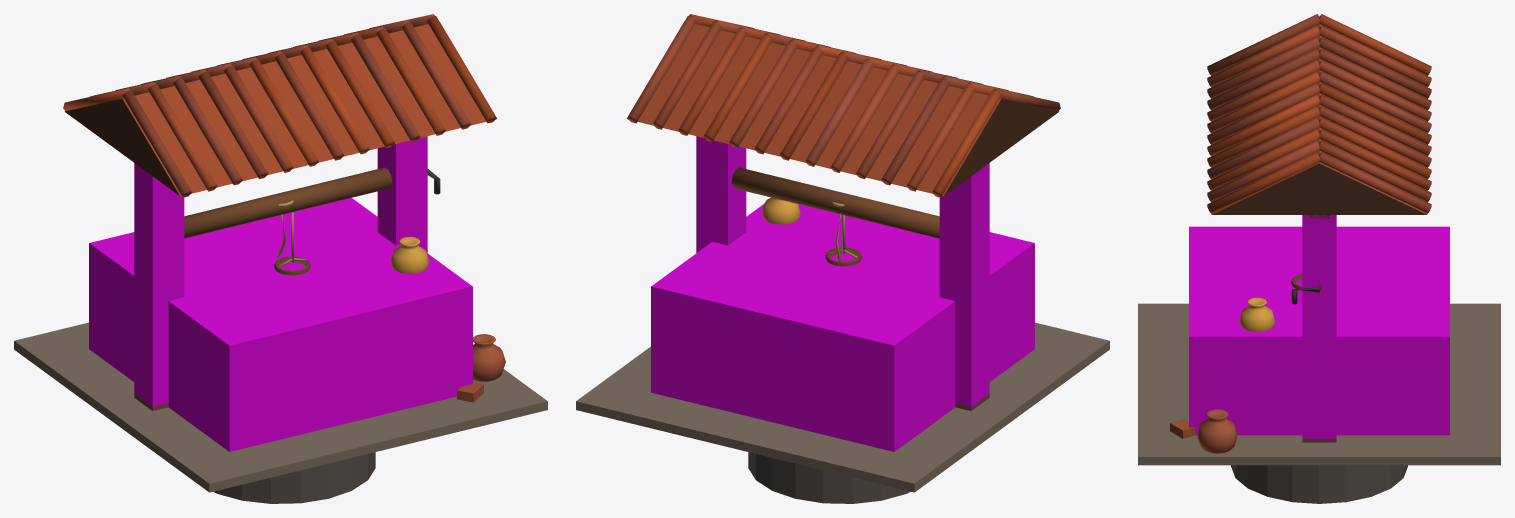
The model's file is PRP_Well_A.glb.
3 views of the same model, side by side, from view 1: azimuth 30°, elevation 25°; view 2: azimuth 150°, elevation 25°; view 3: azimuth 270°, elevation 25° (orthographic). The views are drawn at different scales.
Parts seen in each view (by area): view 1: PRP_Well_A_Mesh, COL_Drum, COL_Post_-1, COL_Post_1, STATE_dry, STATE_working; view 2: PRP_Well_A_Mesh, COL_Drum, COL_Post_-1, COL_Post_1, STATE_working; view 3: PRP_Well_A_Mesh, COL_Drum, COL_Post_1, STATE_dry, STATE_working.
Part boxes in pixels (bbox=[...]): PRP_Well_A_Mesh: bbox=[14, 14, 547, 503]; COL_Drum: bbox=[89, 198, 472, 451]; COL_Post_-1: bbox=[134, 163, 184, 410]; COL_Post_1: bbox=[377, 136, 427, 252]; STATE_dry: bbox=[276, 214, 505, 402]; STATE_working: bbox=[274, 200, 428, 275]; PRP_Well_A_Mesh: bbox=[576, 14, 1109, 503]; COL_Drum: bbox=[651, 204, 1034, 451]; COL_Post_-1: bbox=[939, 163, 989, 410]; COL_Post_1: bbox=[696, 136, 746, 252]; STATE_working: bbox=[762, 197, 861, 266]; PRP_Well_A_Mesh: bbox=[1138, 14, 1500, 503]; COL_Drum: bbox=[1189, 226, 1449, 435]; COL_Post_1: bbox=[1302, 215, 1336, 442]; STATE_dry: bbox=[1170, 409, 1237, 453]; STATE_working: bbox=[1239, 274, 1302, 331].
Size of the model in its own units: 3.2 by 3.72 by 3.2.
